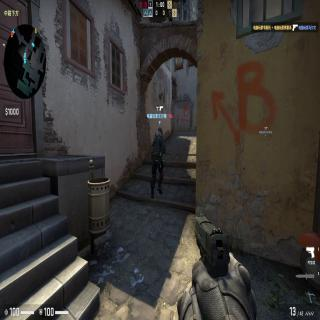CT-Body: (150, 126, 166, 200)
CT-Head: (157, 126, 163, 136)
